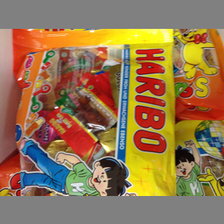candy: (13, 31, 176, 195)
